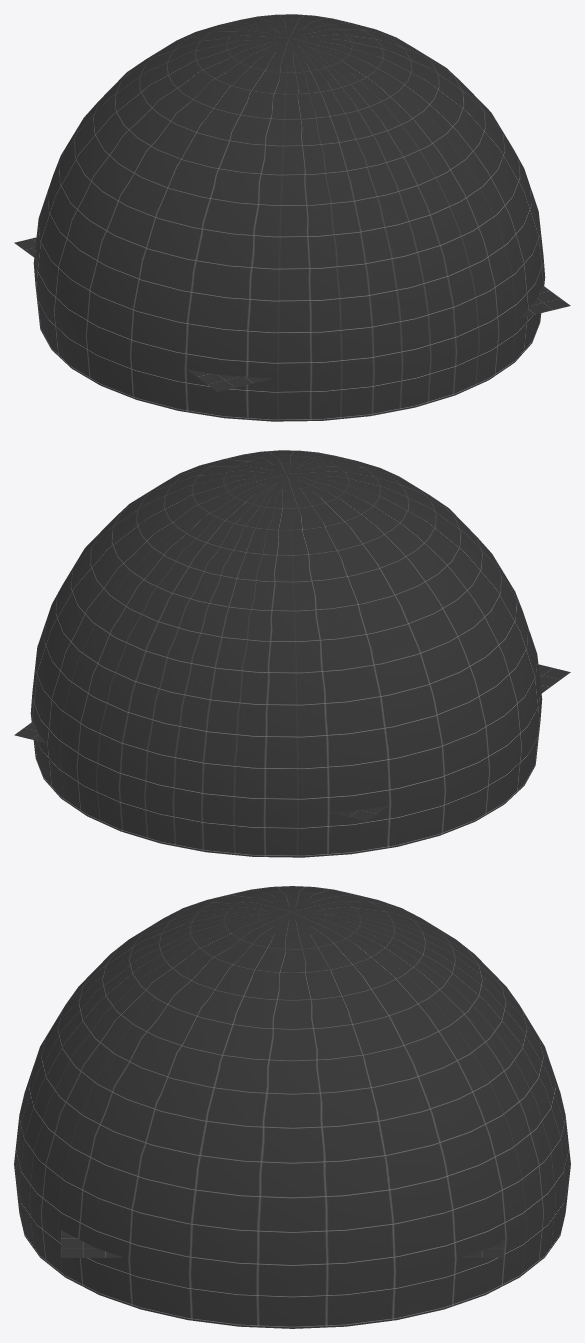
Rendered from Track tamiya3.glb.
3 renders of one model, top to bottom at view 1: azimuth 30°, elevation 25°; view 2: azimuth 150°, elevation 25°; view 3: azimuth 270°, elevation 25°, orthographic. The views are drawn at different scales.
Visible parts, largest first — view 1: matepainting, Plane.001; view 2: matepainting, Plane.001; view 3: matepainting, Plane.001.
Part boxes in pixels (x1,y1,x2,y2): matepainting: (33,14,545,421); Plane.001: (14,237,570,391); matepainting: (30,450,542,857); Plane.001: (14,664,570,821); matepainting: (14,886,570,1328); Plane.001: (61,1230,504,1257).
Bounding box in the file's own units: 78.4 × 46.85 × 78.4.
Materials: 6 (4 with a texture image).
